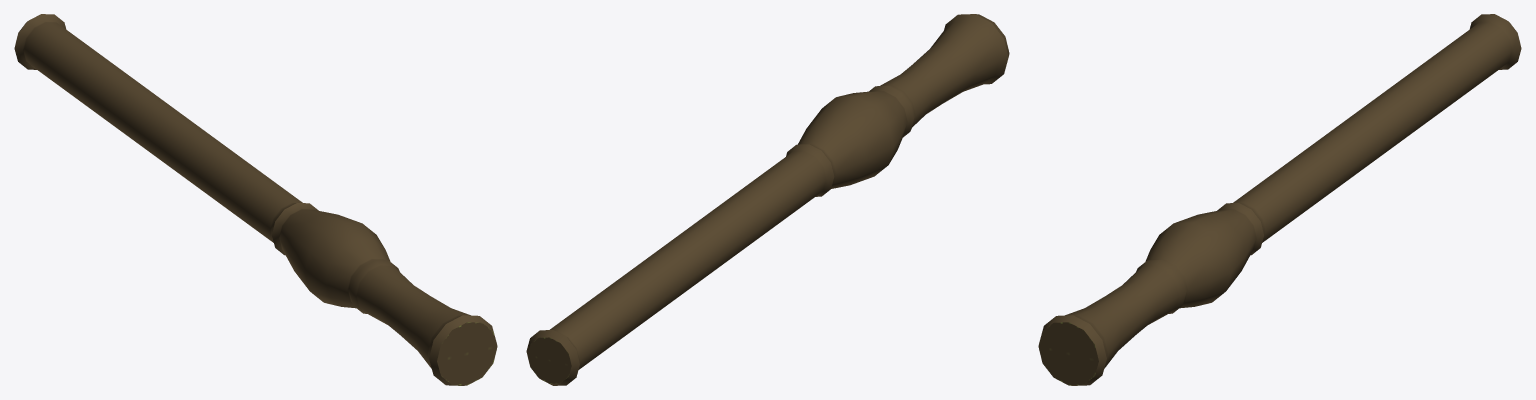
File: W_Right_Gun.FBX
3 renders of one model, left to right at view 1: azimuth 30°, elevation 25°; view 2: azimuth 150°, elevation 25°; view 3: azimuth 330°, elevation 25°, orthographic.
Visible parts, largest first — view 1: 对象001; view 2: 对象001; view 3: 对象001.
Boxes of the visible parts, left/top/right/bottom form: 对象001: left=14, top=14, right=497, bottom=385; 对象001: left=526, top=14, right=1009, bottom=385; 对象001: left=1038, top=14, right=1521, bottom=385.
Bounding box in the file's own units: 0.0929 × 0.0929 × 0.8965.
